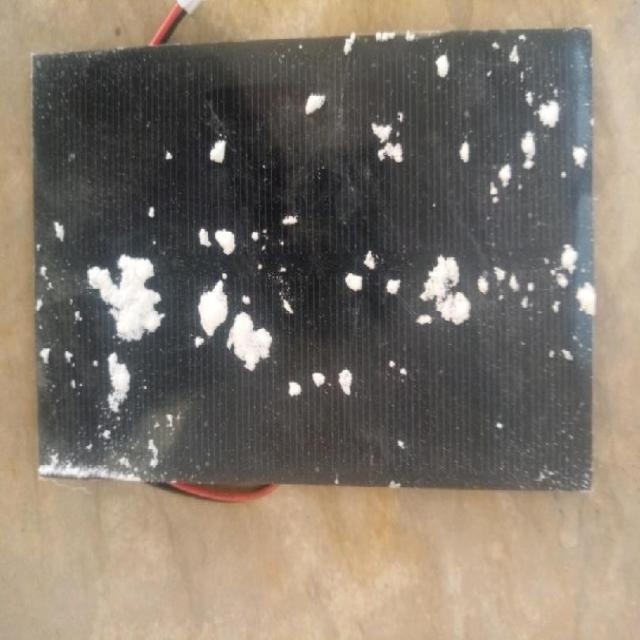faulty: (32, 57, 597, 488)
